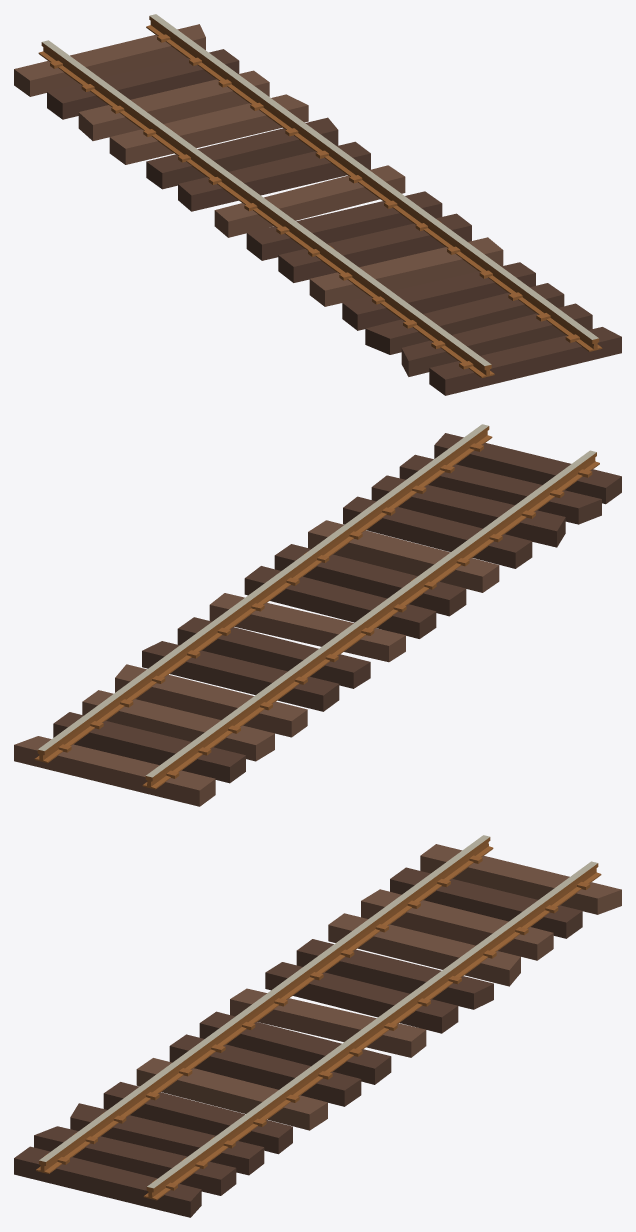
Rendered from Train Track 10 M.glb.
3 renders of one model, top to bottom at view 1: azimuth 30°, elevation 25°; view 2: azimuth 150°, elevation 25°; view 3: azimuth 330°, elevation 25°, orthographic.
Visible parts, largest first — view 1: Train Track 10 M; view 2: Train Track 10 M; view 3: Train Track 10 M.
Part boxes in pixels (x1,y1,x2,y2): Train Track 10 M: (14,14,621,395); Train Track 10 M: (14,424,621,806); Train Track 10 M: (14,835,621,1217).
Size of what is drawn, in the model's own units: 2.46 by 0.3385 by 9.99.
1 material, 1 textured.
